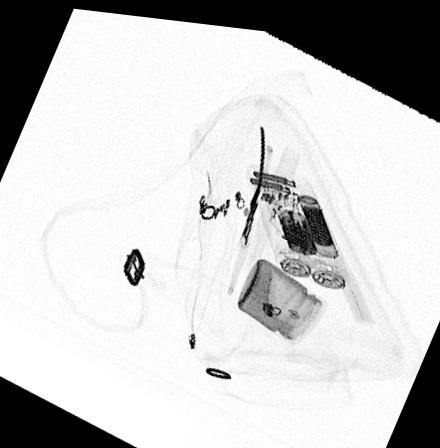Scissors: (225, 118, 265, 291)
